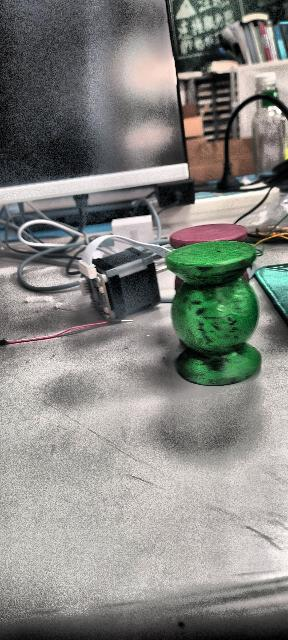green: (167, 241, 263, 389)
red: (170, 224, 243, 248)
